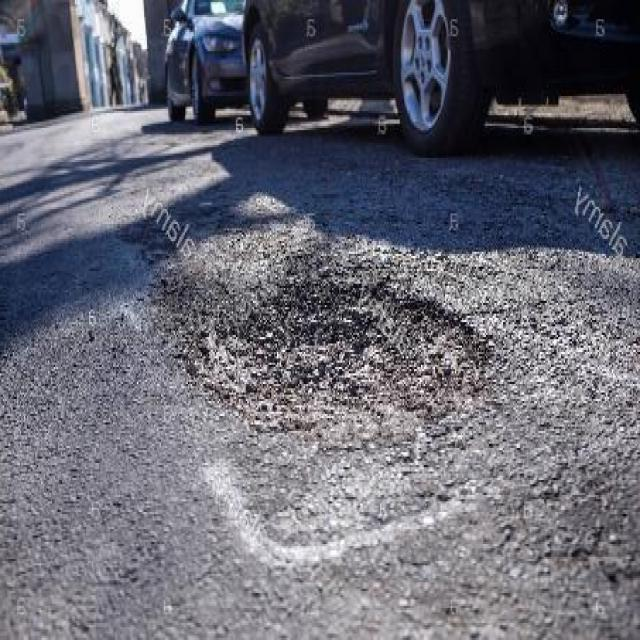buraco: (147, 267, 500, 452), (163, 271, 492, 442)
